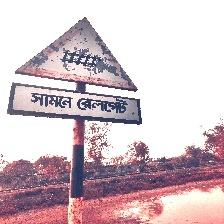Rail-crossing: (9, 17, 141, 124)
